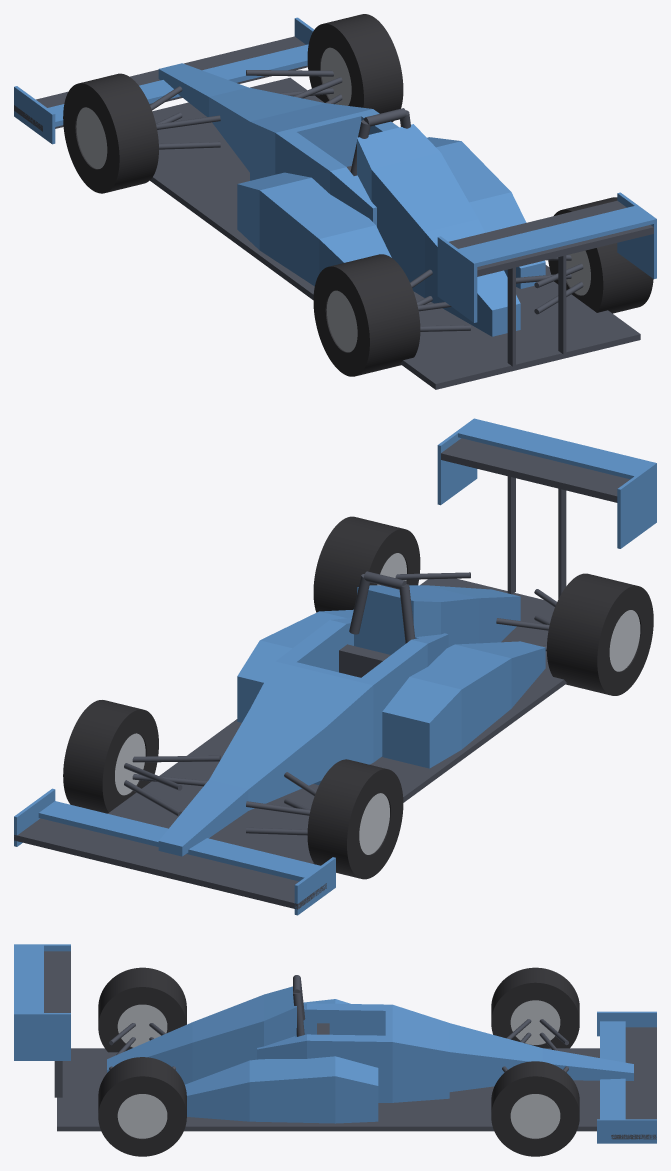
Rendered from prototype_02.gltf.
3 renders of one model, top to bottom at view 1: azimuth 30°, elevation 25°; view 2: azimuth 150°, elevation 25°; view 3: azimuth 270°, elevation 25°, orthographic. The views are drawn at different scales.
Visible parts, largest first — view 1: Floor, Engine_cover, Left_Sidepod, Rear_Left_Tire, Monocoque_with_cockpit, Front_Left_Tire, Front_Right_Tire, Nose, Right_Sidepod, Rear_wing_flap, Rear_Right_Tire, Rear_wing_main (+12 smaller); view 2: Monocoque_with_cockpit, Left_Sidepod, Floor, Nose, Rear_Left_Tire, Engine_cover, Front_wing_main, Front_Left_Tire, Front_Right_Tire, Rear_Right_Tire, Front_wing_flap, Rear_wing_main (+12 smaller); view 3: Monocoque_with_cockpit, Right_Sidepod, Floor, Engine_cover, Nose, Rear_Right_Tire, Front_Right_Tire, Rear_Left_Tire, Front_Left_Tire, Front_wing_main, Rear_endplate_Right, Front_wing_flap (+10 smaller).
Part boxes in pixels (x1,y1,x2,y2): Floor: [150, 77, 640, 389]; Engine_cover: [357, 124, 520, 336]; Left_Sidepod: [237, 172, 391, 286]; Rear_Left_Tire: [313, 254, 420, 376]; Monocoque_with_cockpit: [250, 103, 398, 226]; Front_Left_Tire: [63, 73, 158, 193]; Front_Right_Tire: [307, 14, 403, 122]; Nose: [158, 63, 325, 172]; Right_Sidepod: [427, 137, 545, 288]; Rear_wing_flap: [458, 206, 653, 266]; Rear_Right_Tire: [548, 197, 653, 313]; Rear_wing_main: [449, 200, 653, 276]; Monocoque_with_cockpit: [250, 618, 448, 784]; Left_Sidepod: [382, 641, 545, 768]; Floor: [108, 578, 566, 864]; Nose: [158, 709, 325, 856]; Rear_Left_Tire: [547, 573, 653, 695]; Engine_cover: [357, 585, 520, 654]; Front_wing_main: [14, 818, 326, 909]; Front_Left_Tire: [307, 759, 403, 879]; Front_Right_Tire: [63, 700, 158, 813]; Rear_Right_Tire: [313, 516, 420, 612]; Front_wing_flap: [38, 801, 320, 881]; Rear_wing_main: [441, 438, 629, 502]; Monocoque_with_cockpit: [257, 1003, 449, 1102]; Right_Sidepod: [185, 1056, 378, 1123]; Floor: [57, 1048, 599, 1131]; Engine_cover: [107, 986, 296, 1084]; Nose: [449, 1023, 633, 1091]; Rear_Right_Tire: [98, 1057, 186, 1156]; Front_Right_Tire: [491, 1061, 579, 1156]; Rear_Left_Tire: [98, 967, 186, 1052]; Front_Left_Tire: [491, 967, 579, 1048]; Front_wing_main: [611, 1027, 656, 1139]; Rear_endplate_Right: [14, 1013, 70, 1060]; Front_wing_flap: [600, 1021, 625, 1119].
Size of the model in its own units: 1.8 by 0.95 by 4.5.
